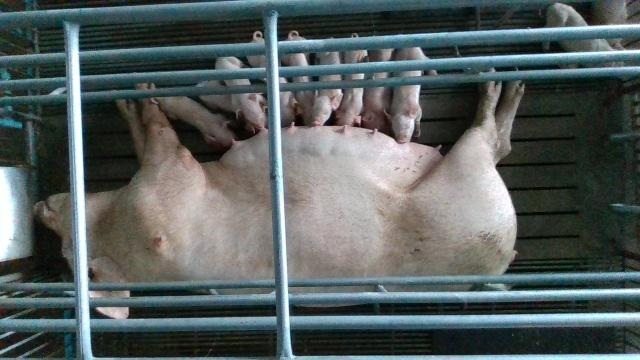piglet: (247, 31, 298, 125), (543, 2, 614, 69), (390, 48, 438, 143), (161, 94, 239, 147), (216, 55, 265, 128), (281, 31, 316, 123), (308, 37, 344, 126), (335, 32, 364, 126), (362, 50, 393, 132)
sow-sleep-lactate: (31, 67, 524, 324)
